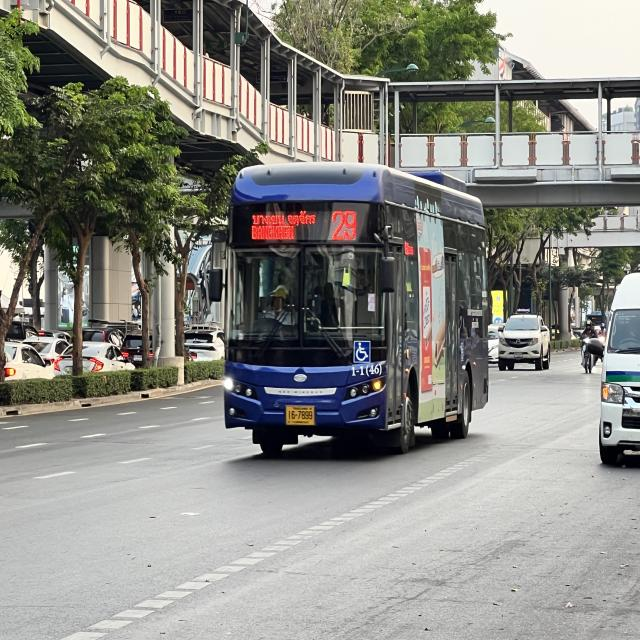Bus-Line-Number: (328, 207, 362, 242)
Destination-Sign-Normal: (250, 210, 319, 243)
TSB-Bus: (209, 156, 490, 473)
